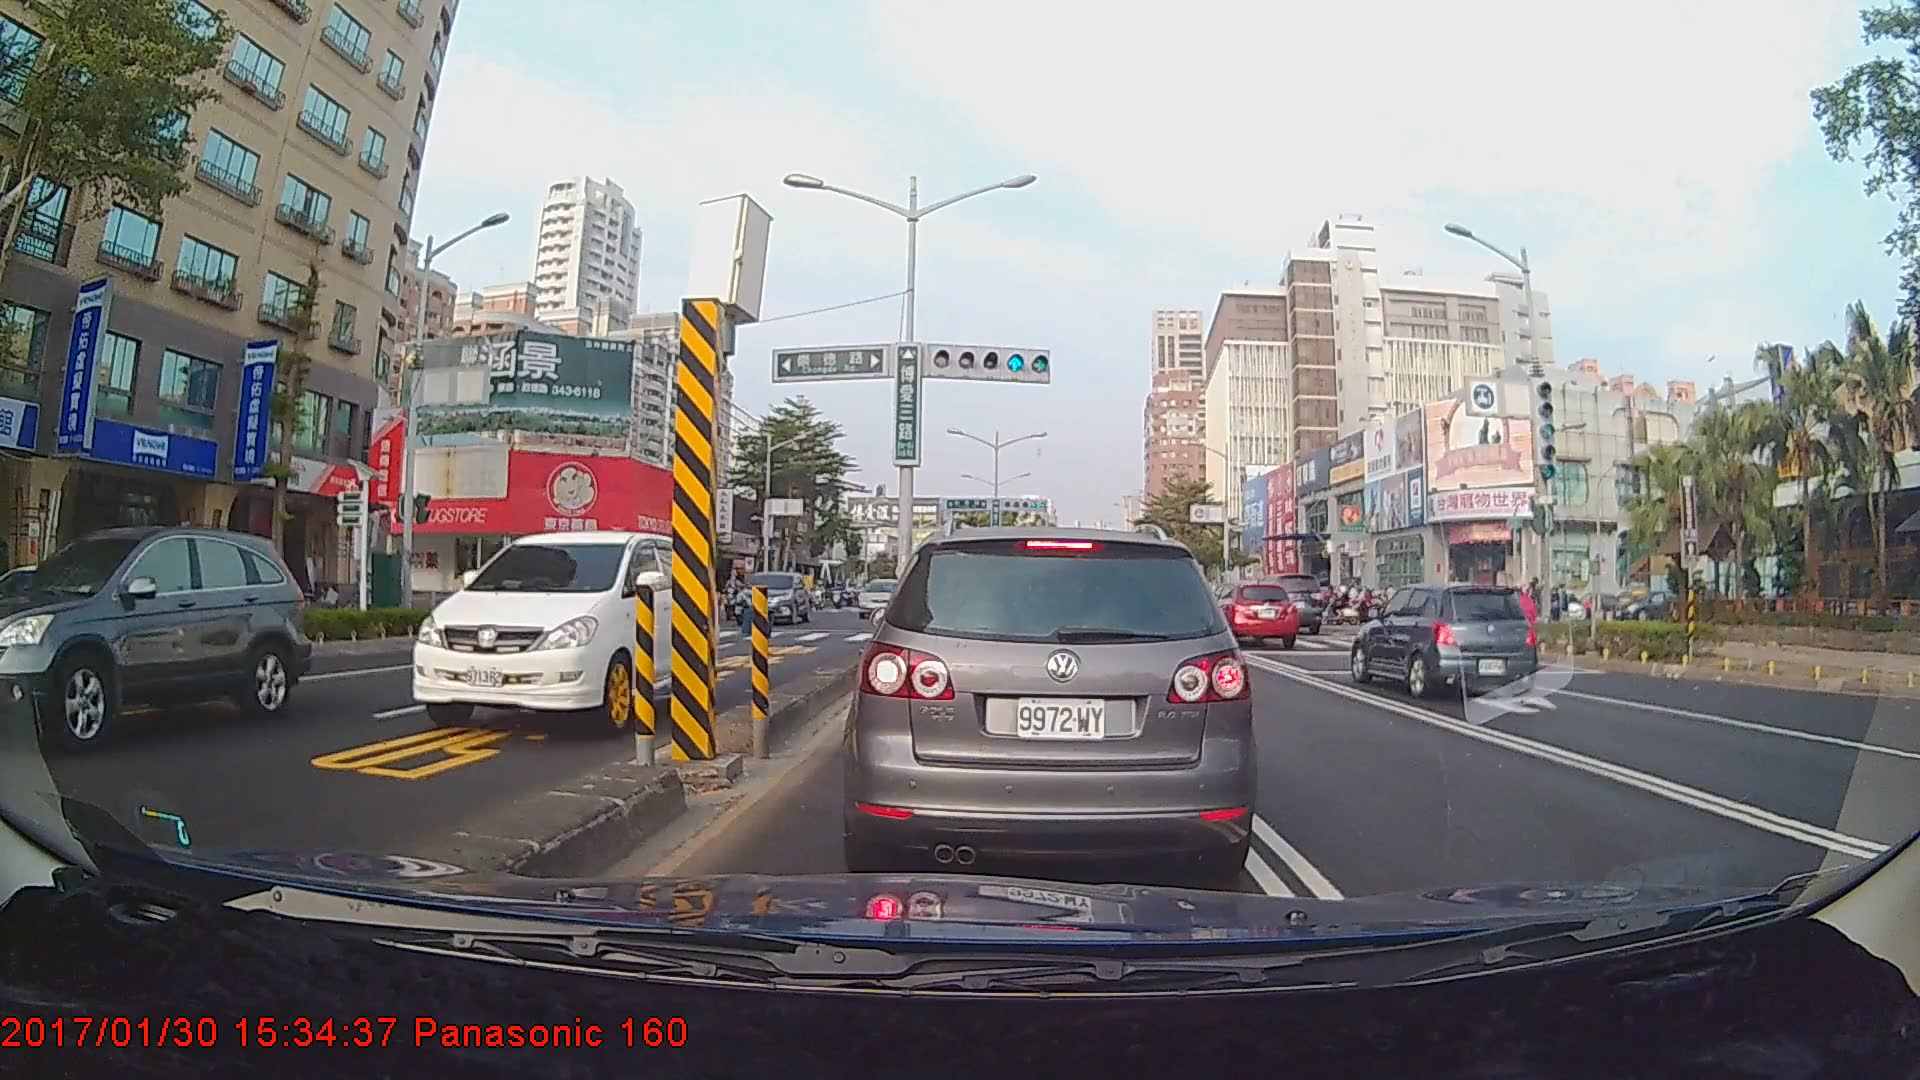vehicle: (856, 524, 1249, 876), (0, 524, 310, 756), (409, 530, 720, 736), (1350, 579, 1542, 699), (1205, 578, 1298, 647), (1240, 571, 1325, 636), (735, 571, 808, 626), (857, 578, 913, 617)
